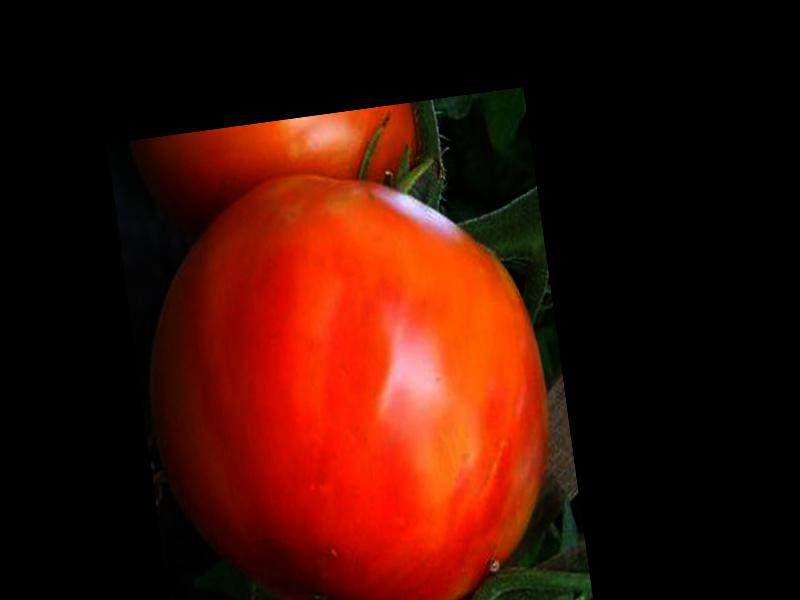Tomato: (123, 151, 573, 600)
